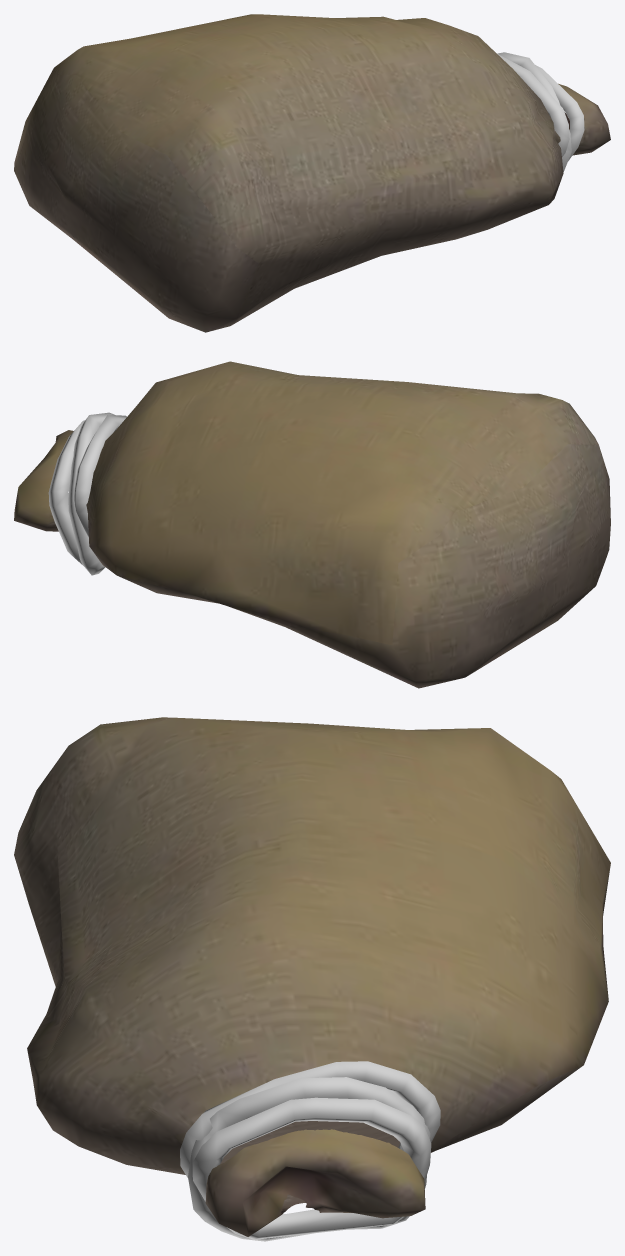
The picture shows the model from 3 angles, top to bottom: view 1: azimuth 30°, elevation 25°; view 2: azimuth 150°, elevation 25°; view 3: azimuth 270°, elevation 25°; orthographic projection. The views are drawn at different scales.
Visible parts, largest first — view 1: SM_ClosedSack_02_LOD0; view 2: SM_ClosedSack_02_LOD0; view 3: SM_ClosedSack_02_LOD0.
Boxes of the visible parts, x1,y1,x2,y2 form: SM_ClosedSack_02_LOD0: (14, 14, 610, 332); SM_ClosedSack_02_LOD0: (14, 361, 610, 688); SM_ClosedSack_02_LOD0: (14, 717, 610, 1241).
Size of the model in its own units: 0.8437 by 0.3597 by 0.6071.
